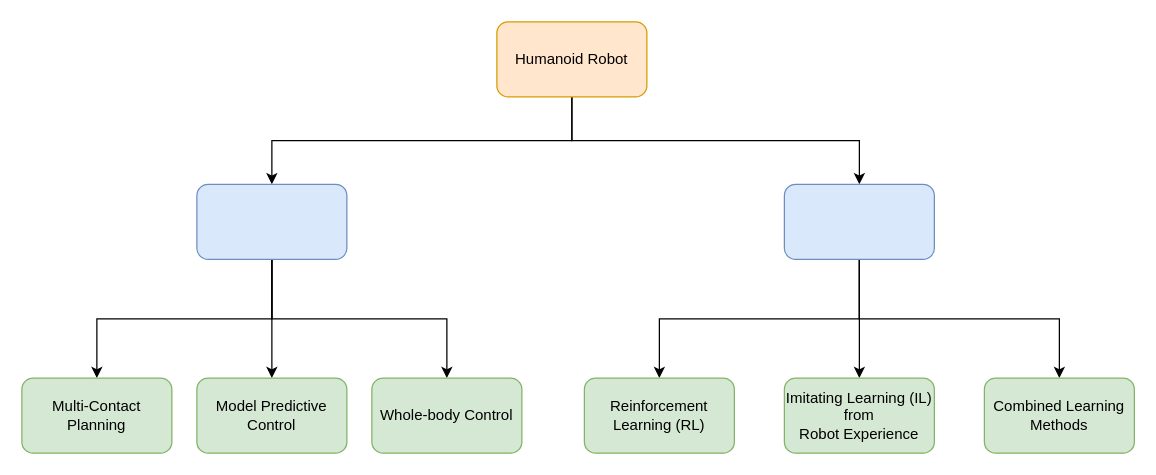
Some shapes in this 1156 by 475 pixel diagram are drawn without their labels. Each missing label, with the box of its shape:
Learning-based Approaches: (783, 183, 934, 259)
Traditional Planning and Control: (196, 183, 347, 259)
